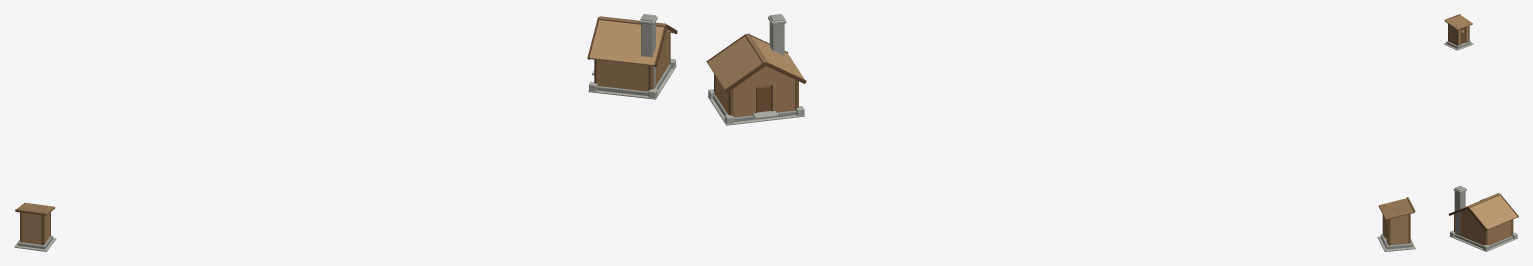
The model's file is structures.glb.
3 renders of one model, left to right at view 1: azimuth 30°, elevation 25°; view 2: azimuth 150°, elevation 25°; view 3: azimuth 270°, elevation 25°, orthographic. The views are drawn at different scales.
Parts seen in each view (by area): view 1: cabin_roof_right, cabin_wall_right, cabin_chimney, outhouse_wall_back, cabin_pad; view 2: cabin_roof_left, cabin_wall_front_-1, cabin_gable_front, cabin_wall_front_1, cabin_roof_right, cabin_chimney, outhouse_wall_right, outhouse_roof; view 3: cabin_roof_left, cabin_wall_back, cabin_wall_left, cabin_chimney, outhouse_roof, cabin_pad, cabin_gable_back, cabin_pad_underlay, outhouse_wall_left, cabin_roof_ridge, outhouse_pad, cabin_barge_back_-1 (+4 smaller).
Boxes of the visible parts, x1=… form: cabin_roof_right: x1=589, y1=20, x2=663, y2=66; cabin_wall_right: x1=598, y1=60, x2=648, y2=91; cabin_chimney: x1=641, y1=14, x2=655, y2=87; outhouse_wall_back: x1=22, y1=213, x2=41, y2=244; cabin_pad: x1=597, y1=64, x2=671, y2=95; cabin_roof_left: x1=707, y1=36, x2=762, y2=89; cabin_wall_front_-1: x1=733, y1=86, x2=756, y2=117; cabin_gable_front: x1=733, y1=66, x2=794, y2=88; cabin_wall_front_1: x1=772, y1=82, x2=794, y2=112; cabin_roof_right: x1=752, y1=36, x2=804, y2=79; cabin_chimney: x1=769, y1=14, x2=784, y2=85; outhouse_wall_right: x1=1389, y1=213, x2=1408, y2=244; outhouse_roof: x1=1378, y1=198, x2=1414, y2=219; cabin_roof_left: x1=1470, y1=195, x2=1517, y2=230; cabin_wall_back: x1=1456, y1=218, x2=1484, y2=245; cabin_wall_left: x1=1488, y1=220, x2=1511, y2=245; cabin_chimney: x1=1454, y1=185, x2=1465, y2=234; outhouse_roof: x1=1445, y1=15, x2=1472, y2=30; cabin_pad: x1=1454, y1=234, x2=1512, y2=248; cabin_gable_back: x1=1460, y1=209, x2=1481, y2=226; cabin_pad_underlay: x1=1449, y1=236, x2=1517, y2=251; outhouse_wall_left: x1=1449, y1=24, x2=1457, y2=45; cabin_roof_ridge: x1=1467, y1=193, x2=1500, y2=207; outhouse_pad: x1=1446, y1=41, x2=1471, y2=48; cabin_barge_back_-1: x1=1467, y1=207, x2=1487, y2=230.
Size of the model in its own units: 49.55 by 5.31 by 7.32.
